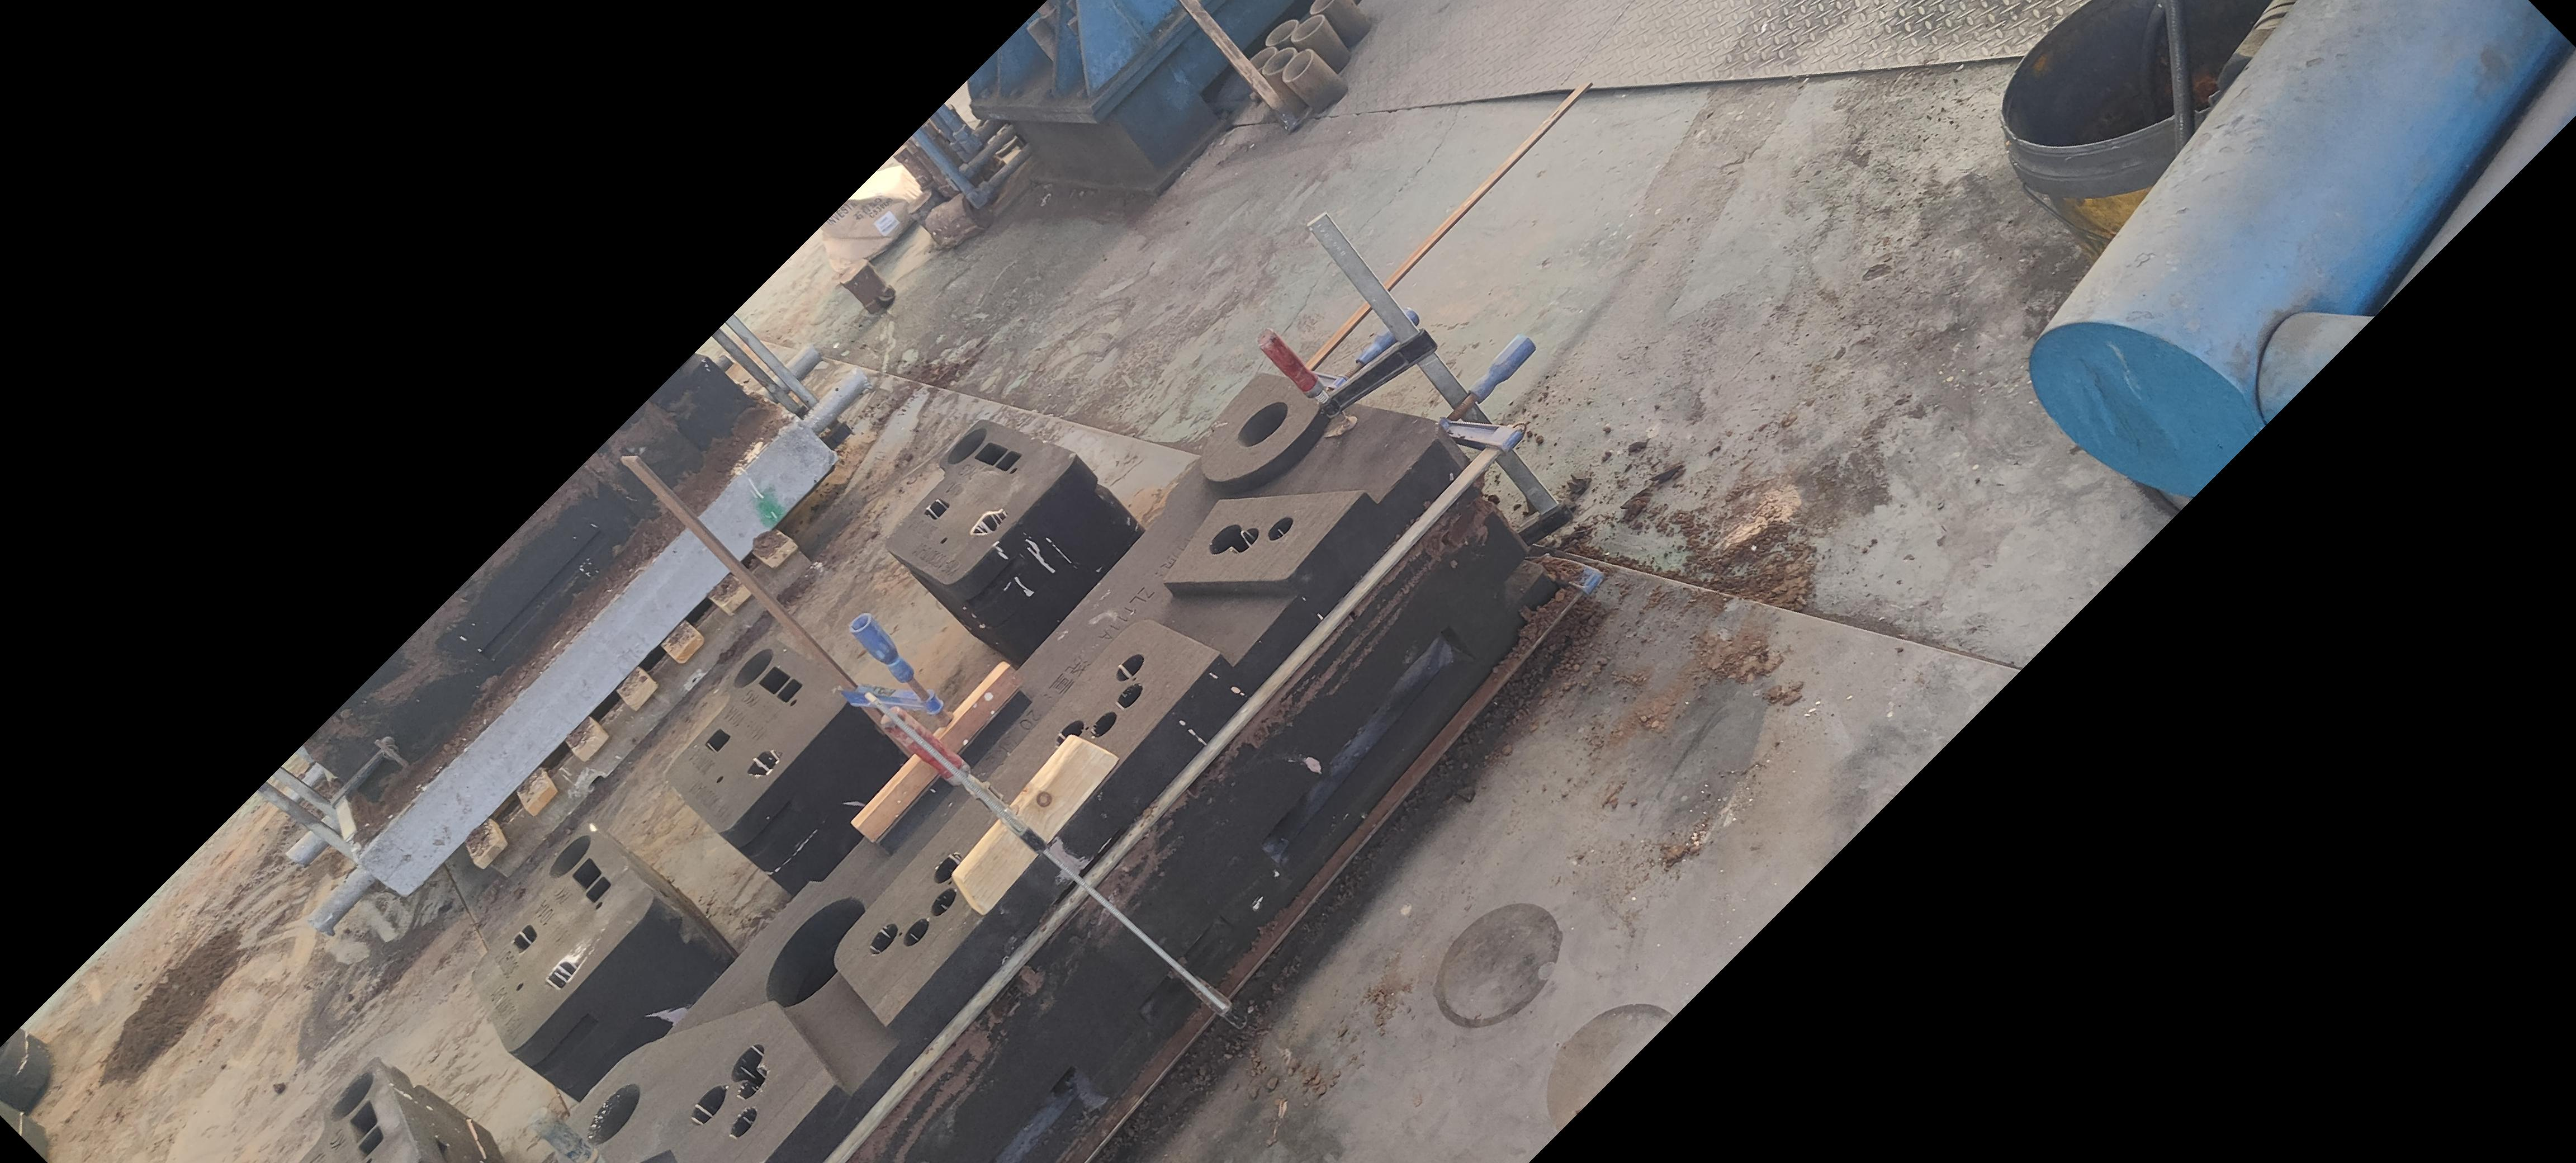pouring hole: (586, 1083, 641, 1143), (1235, 402, 1288, 448), (329, 1069, 373, 1124), (549, 834, 591, 876), (733, 647, 774, 687), (946, 429, 986, 465), (1281, 49, 1313, 80), (1262, 46, 1295, 76), (1244, 46, 1276, 74), (1265, 16, 1298, 44), (1290, 15, 1322, 43), (1309, 0, 1336, 15)
